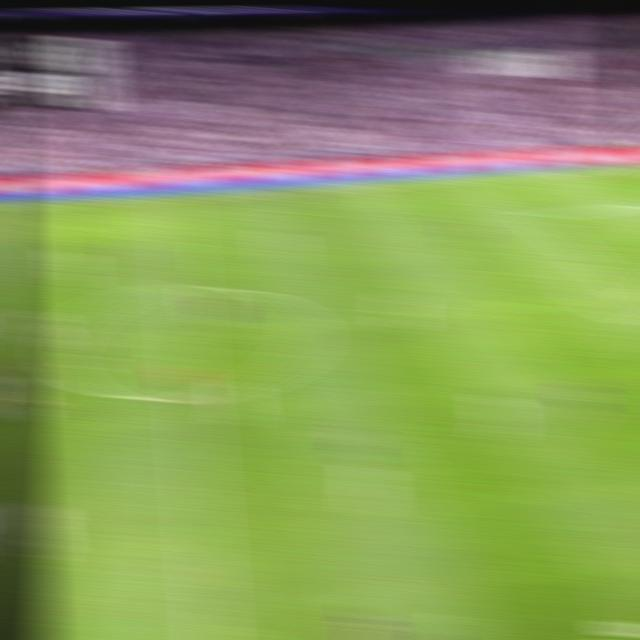bigarea_top_inner: (517, 208, 547, 223)
corner: (603, 159, 633, 171)
halfcircle_bottom: (174, 383, 208, 409)
halfcircle_top: (163, 275, 198, 298)
midline_top_intersection: (158, 191, 188, 207)
top_arc_area_intersection: (575, 253, 604, 268)
